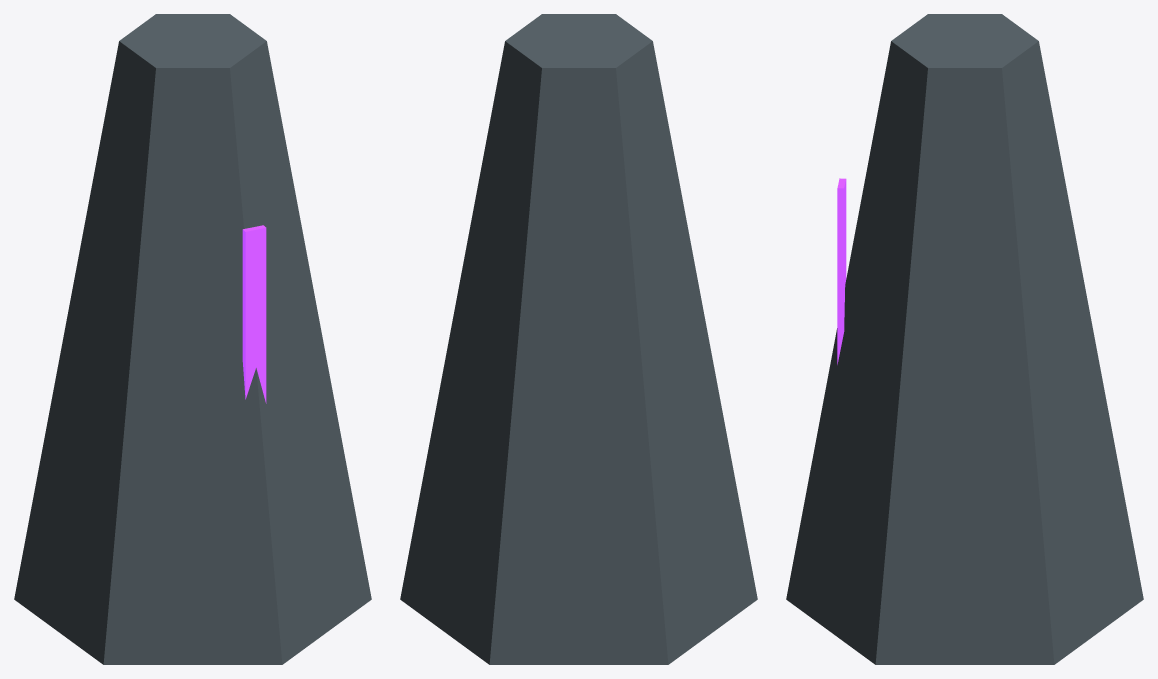
Rendered from standing_stone_a.glb.
3 renders of one model, left to right at view 1: azimuth 30°, elevation 25°; view 2: azimuth 150°, elevation 25°; view 3: azimuth 270°, elevation 25°, orthographic.
Parts seen in each view (by area): view 1: Monolith, Rune; view 2: Monolith; view 3: Monolith, Rune.
Boxes of the visible parts, x1,y1,x2,y2 form: Monolith: (14,14,371,664); Rune: (242,225,266,403); Monolith: (400,14,757,664); Monolith: (786,14,1143,664); Rune: (837,178,846,364).
Bounding box in the file's own units: 1.61 × 3.26 × 1.86.
